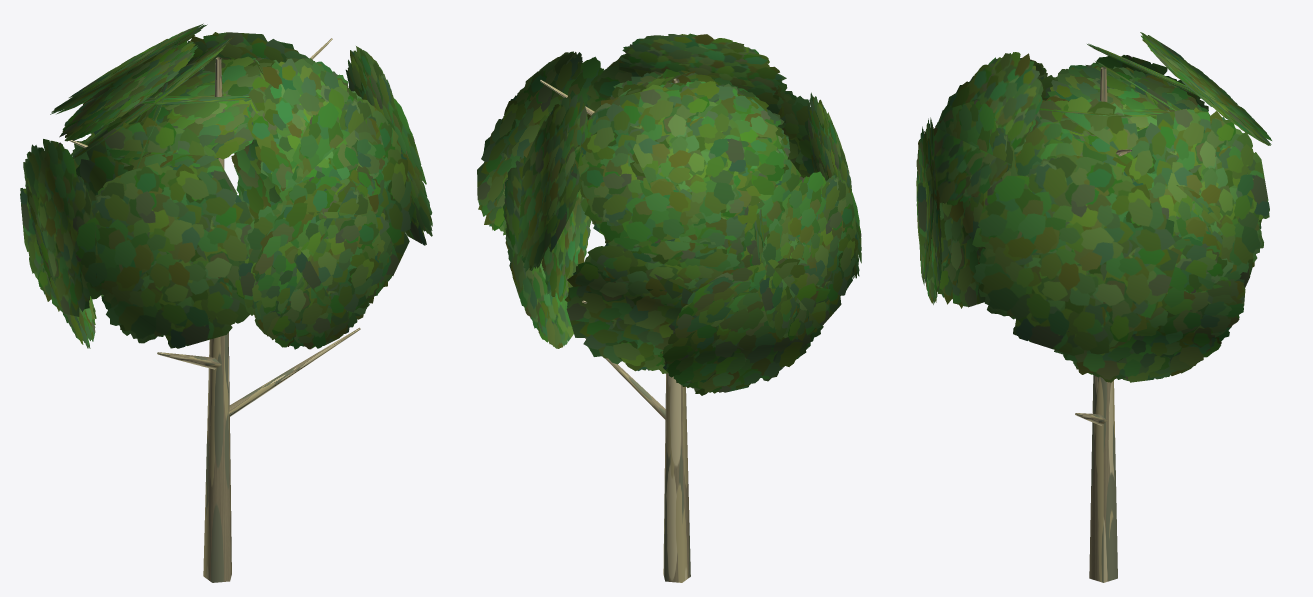
Rendered from LondonPlane_LOD1.fbx.
3 renders of one model, left to right at view 1: azimuth 30°, elevation 25°; view 2: azimuth 150°, elevation 25°; view 3: azimuth 270°, elevation 25°, orthographic. The views are drawn at different scales.
Parts seen in each view (by area): view 1: LondonPlane_LOD1; view 2: LondonPlane_LOD1; view 3: LondonPlane_LOD1.
Part boxes in pixels (bbox=[...]): LondonPlane_LOD1: bbox=[20, 23, 432, 582]; LondonPlane_LOD1: bbox=[477, 33, 861, 582]; LondonPlane_LOD1: bbox=[916, 32, 1271, 582].
Bounding box in the file's own units: 13.92 × 19.82 × 13.22.
1 material, 1 textured.
